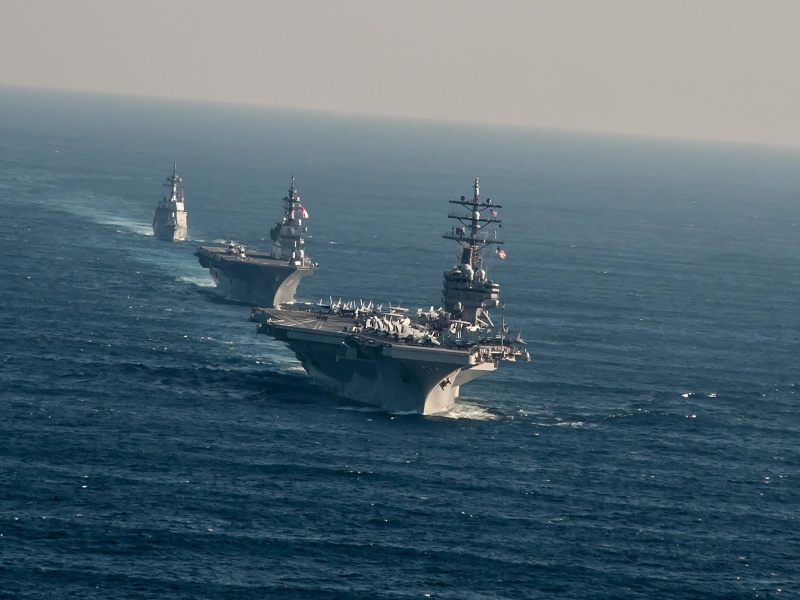carrier: (291, 237, 509, 421), (202, 198, 317, 305)
cruise: (150, 167, 195, 244)
